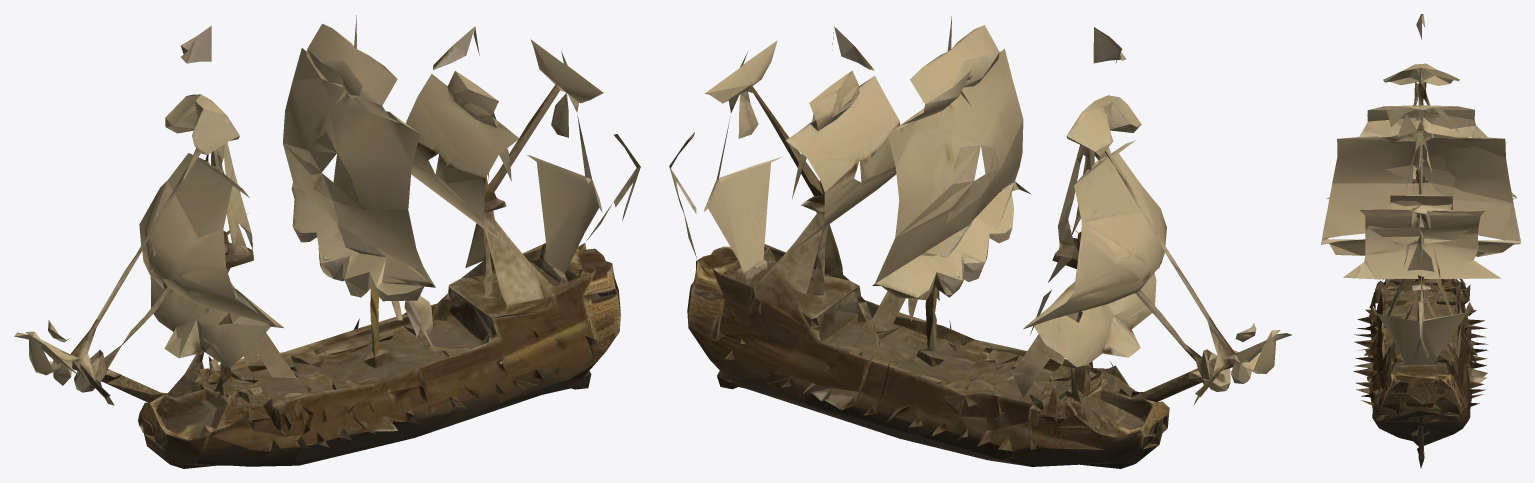
The model's file is navio.glb.
3 renders of one model, left to right at view 1: azimuth 30°, elevation 25°; view 2: azimuth 150°, elevation 25°; view 3: azimuth 270°, elevation 25°, orthographic. The views are drawn at different scales.
Bounding box in the file's own units: 1.85 × 1.28 × 0.7172.
Materials: 1 (1 with a texture image).
